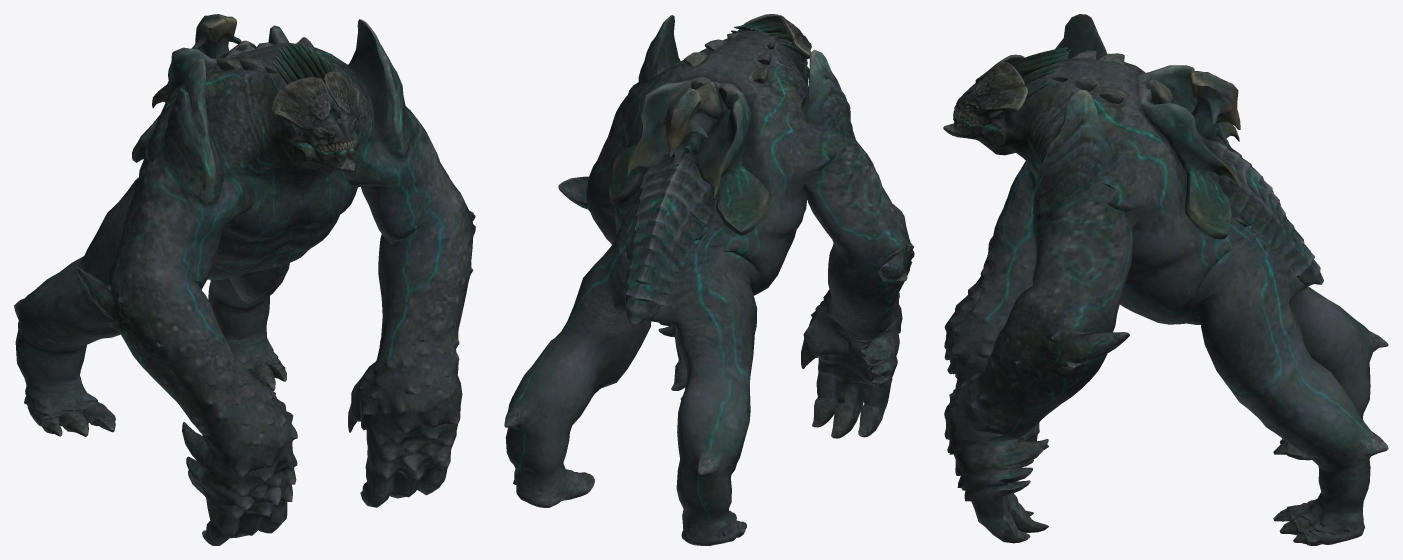
File: leatherback.glb
3 views of the same model, side by side, from view 1: azimuth 30°, elevation 25°; view 2: azimuth 150°, elevation 25°; view 3: azimuth 270°, elevation 25° (orthographic). The views are drawn at different scales.
Visible parts, largest first — view 1: Object_3, Object_2; view 2: Object_3, Object_2; view 3: Object_3, Object_2.
Boxes of the visible parts, x1,y1,x2,y2 form: Object_3: [14, 19, 475, 545]; Object_2: [191, 14, 360, 152]; Object_3: [504, 15, 914, 545]; Object_2: [656, 14, 811, 166]; Object_3: [943, 14, 1388, 545]; Object_2: [954, 54, 1240, 144].
Size of the model in its own units: 1.04 by 1.22 by 1.11.
1 material, 1 textured.
